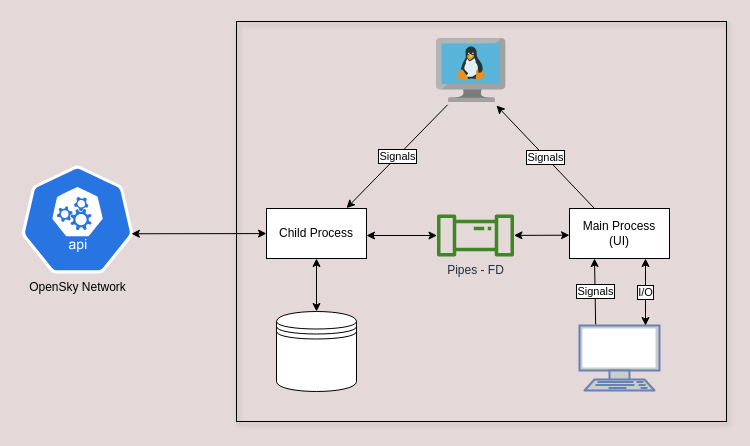
Image size: 750x446. Some labels were removed from this diagram. The centre of each missing label's shape, as x and y in pixels:
Database (PC Storage): point (316, 351)
Terminal: point (619, 357)
